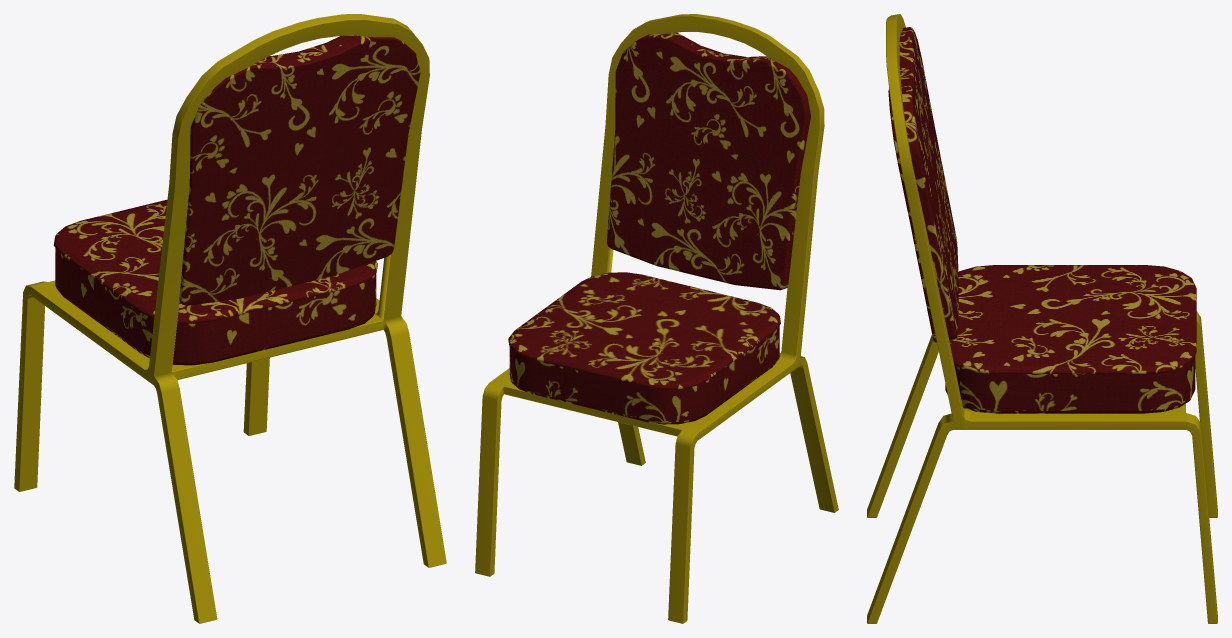
The model's file is Chair 1.fbx.
3 renders of one model, left to right at view 1: azimuth 30°, elevation 25°; view 2: azimuth 150°, elevation 25°; view 3: azimuth 270°, elevation 25°, orthographic. The views are drawn at different scales.
Parts seen in each view (by area): view 1: polySurface85; view 2: polySurface85; view 3: polySurface85.
Boxes of the visible parts, x1,y1,x2,y2 form: polySurface85: (14, 14, 446, 623); polySurface85: (475, 14, 838, 623); polySurface85: (867, 14, 1217, 623).
Bounding box in the file's own units: 46.57 × 99.23 × 59.24.
Materials: 2 (1 with a texture image).
